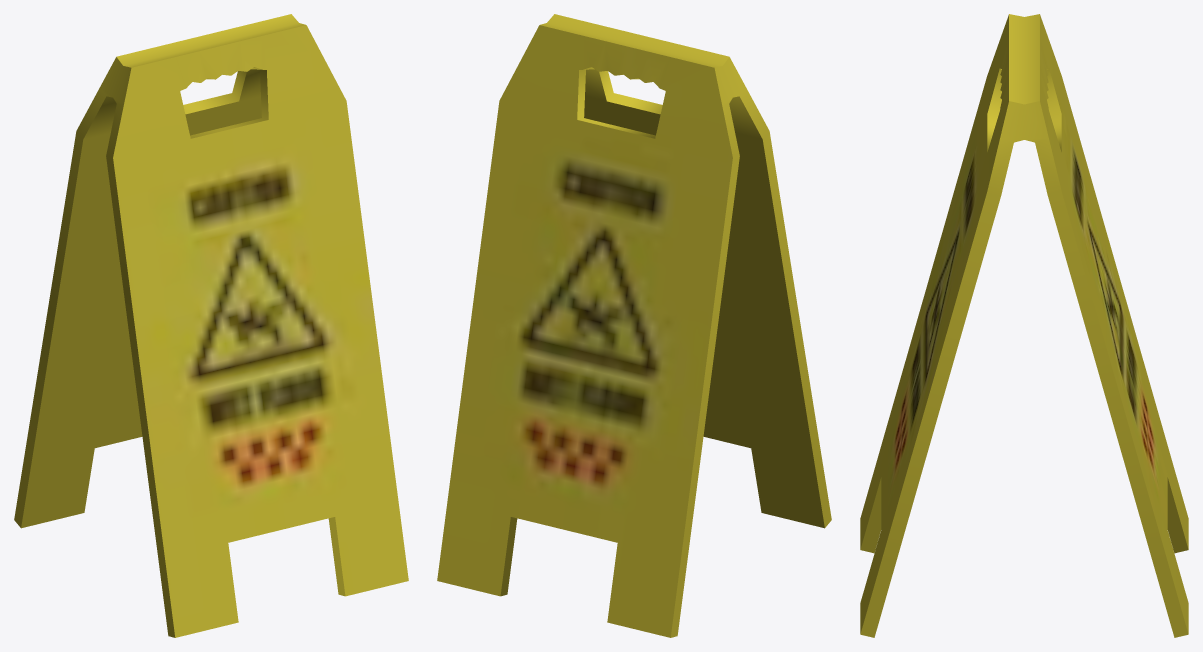
File: wetSign_lo.glb
3 views of the same model, side by side, from view 1: azimuth 30°, elevation 25°; view 2: azimuth 150°, elevation 25°; view 3: azimuth 270°, elevation 25° (orthographic).
Visible parts, largest first — view 1: WetFloorSign_01; view 2: WetFloorSign_01; view 3: WetFloorSign_01.
Boxes of the visible parts, x1,y1,x2,y2 form: WetFloorSign_01: (14,14,408,637); WetFloorSign_01: (437,14,831,637); WetFloorSign_01: (860,14,1188,637).
Bounding box in the file's own units: 0.3 × 0.6295 × 0.3585.
1 material, 1 textured.
